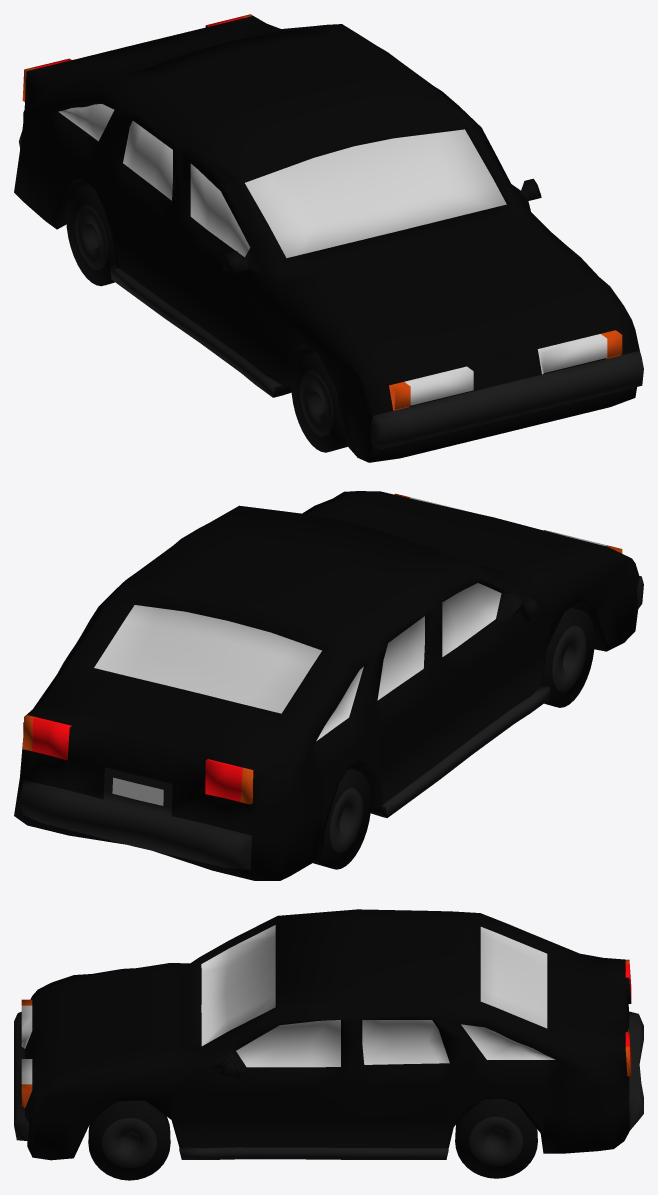
Rendered from car2.obj.
3 renders of one model, top to bottom at view 1: azimuth 30°, elevation 25°; view 2: azimuth 150°, elevation 25°; view 3: azimuth 270°, elevation 25°, orthographic. The views are drawn at different scales.
Parts seen in each view (by area): view 1: Cube; view 2: Cube; view 3: Cube.
Boxes of the visible parts, x1,y1,x2,y2 form: Cube: (14,14,643,462); Cube: (14,491,643,880); Cube: (14,909,643,1180).
Size of the model in its own units: 3.69 by 2.53 by 7.92.
